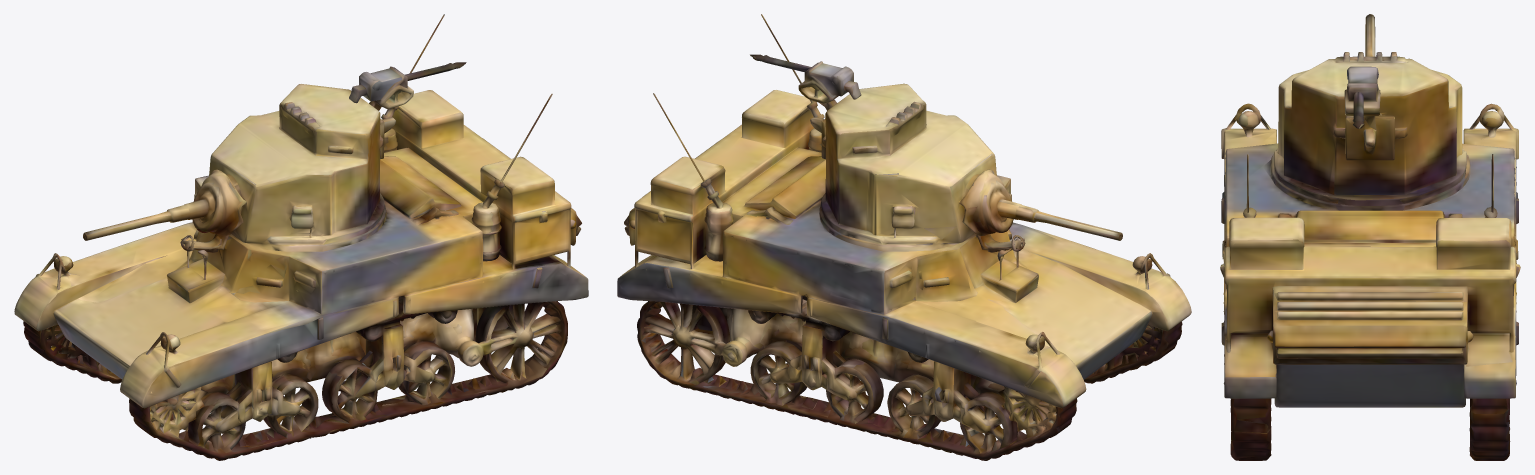
The model's file is stu_opt.glb.
The picture shows the model from 3 angles, left to right: view 1: azimuth 30°, elevation 25°; view 2: azimuth 150°, elevation 25°; view 3: azimuth 270°, elevation 25°; orthographic projection. The views are drawn at different scales.
Visible parts, largest first — view 1: node_0; view 2: node_0; view 3: node_0.
Boxes of the visible parts, x1,y1,x2,y2 form: node_0: (14, 14, 588, 460); node_0: (617, 14, 1191, 460); node_0: (1220, 14, 1520, 460).
Size of the model in its own units: 1.05 by 0.6373 by 0.5199.
Materials: 1 (1 with a texture image).
